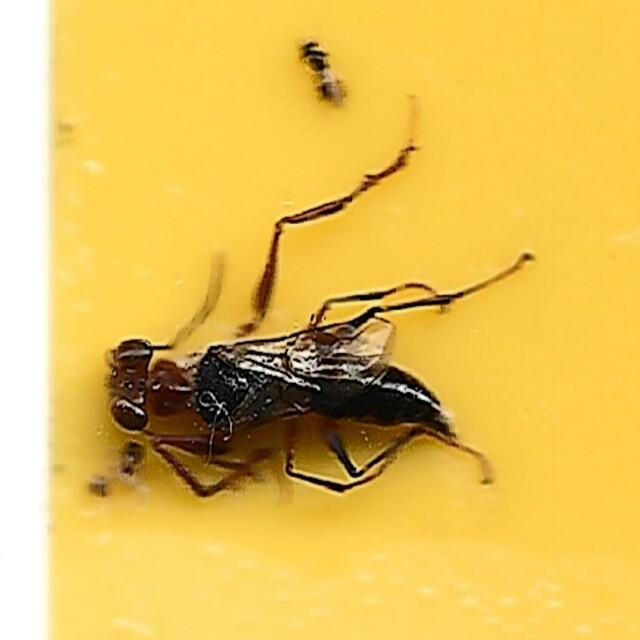Hymenoptera: (102, 135, 538, 505)
